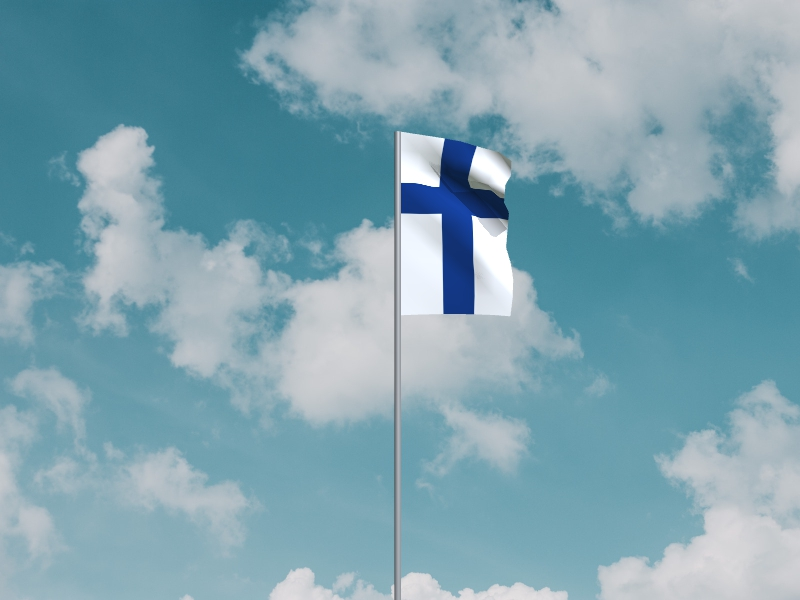fi: (402, 133, 515, 318)
